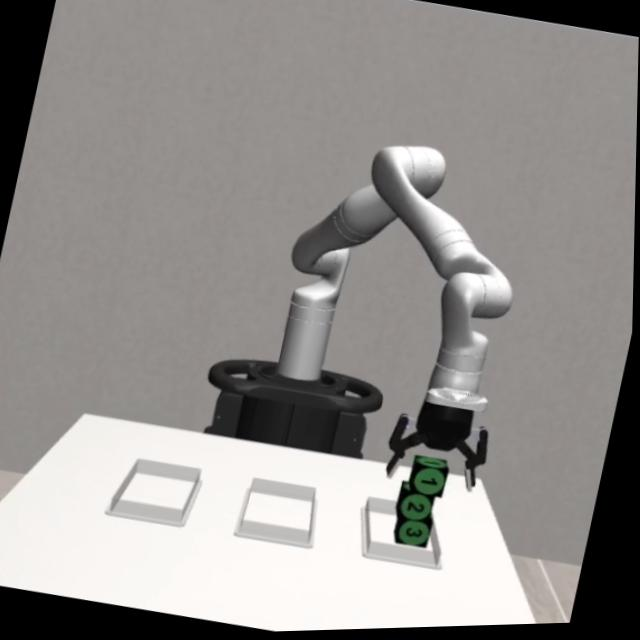cube1: (407, 457, 454, 501)
cube2: (397, 486, 440, 525)
cube3: (397, 518, 437, 553)
